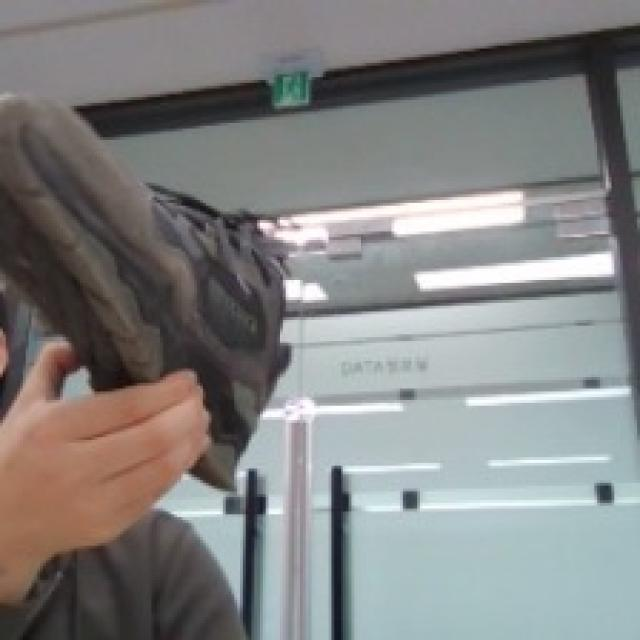shoe: (0, 59, 336, 494)
